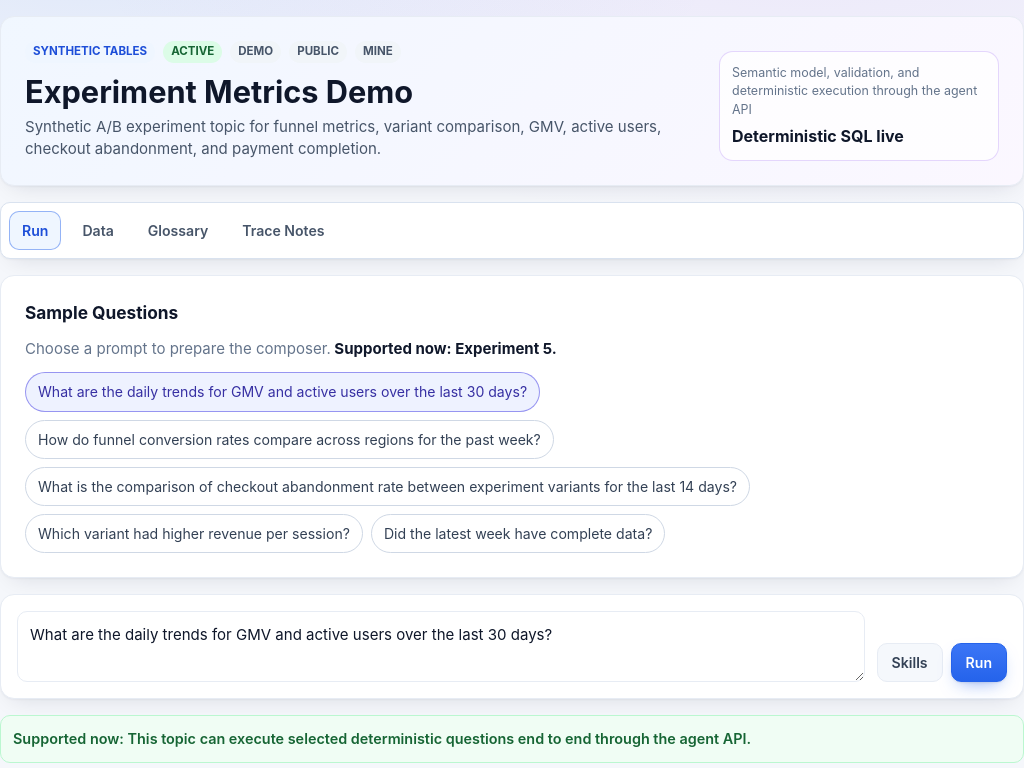
Test: TopicDetailPage › updates selected question when a sample question is clicked
Step 1. Click the button named "What is the comparison of checkout abandonment rate between experiment variants for the last 14 days?" → {"x": 388, "y": 486}, box [25, 467, 750, 506]
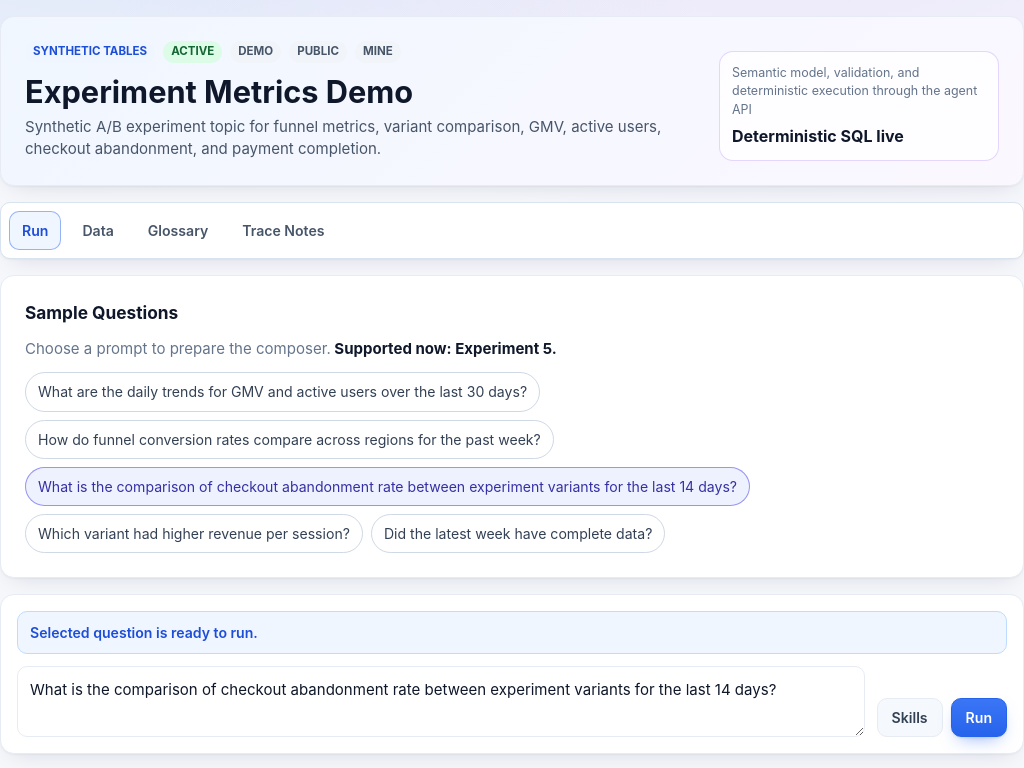
Expected: the text box named "Topic question" holds "What is the comparison of checkout abandonment rate between experiment variants for the last 14 days?", [17, 666, 865, 737]
Expected: the text "Selected question is ready to run." is shown, [17, 611, 1007, 654]
